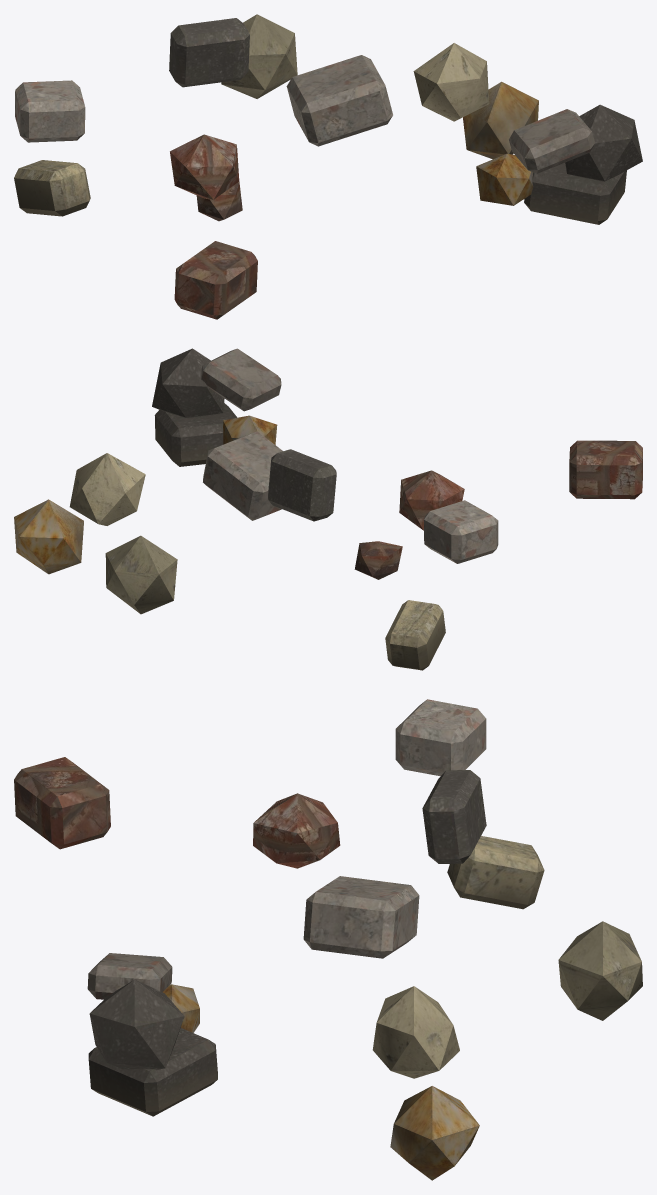
Rendered from prop_rubble_small.glb.
3 renders of one model, top to bottom at view 1: azimuth 30°, elevation 25°; view 2: azimuth 150°, elevation 25°; view 3: azimuth 270°, elevation 25°, orthographic. The views are drawn at different scales.
Parts seen in each view (by area): view 1: Rubble; view 2: Rubble; view 3: Rubble.
Boxes of the visible parts, <box> form: Rubble: <box>14,14,642,319</box>; Rubble: <box>14,348,642,670</box>; Rubble: <box>14,699,642,1180</box>.
Bounding box in the file's own units: 0.6074 × 0.2236 × 0.5425.
1 material, 1 textured.
